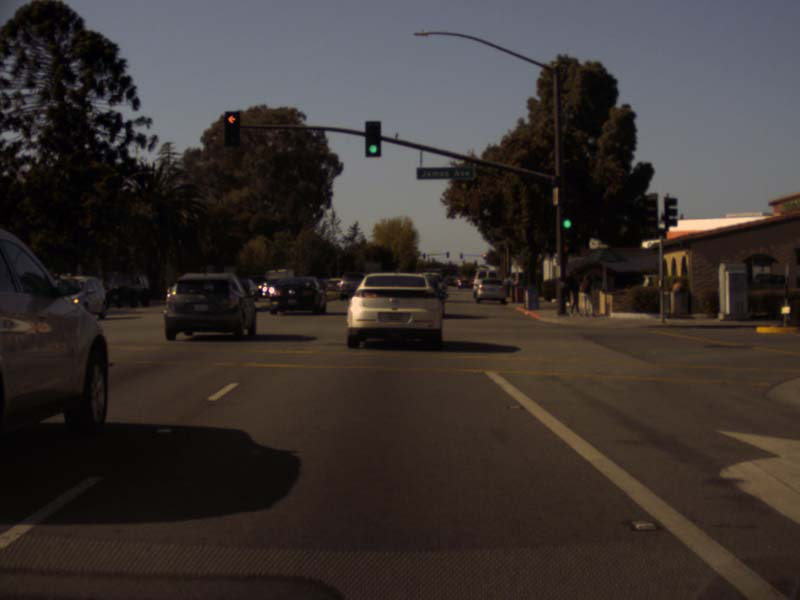Green: (365, 121, 381, 157), (561, 199, 573, 233)
Red: (224, 111, 239, 145)
